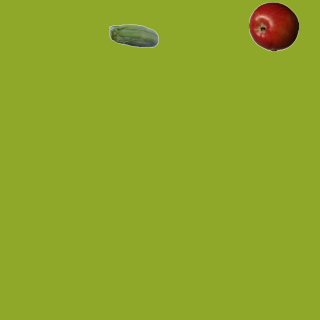Apple Braeburn: (248, 1, 298, 51)
Corn Husk: (108, 12, 158, 62)
